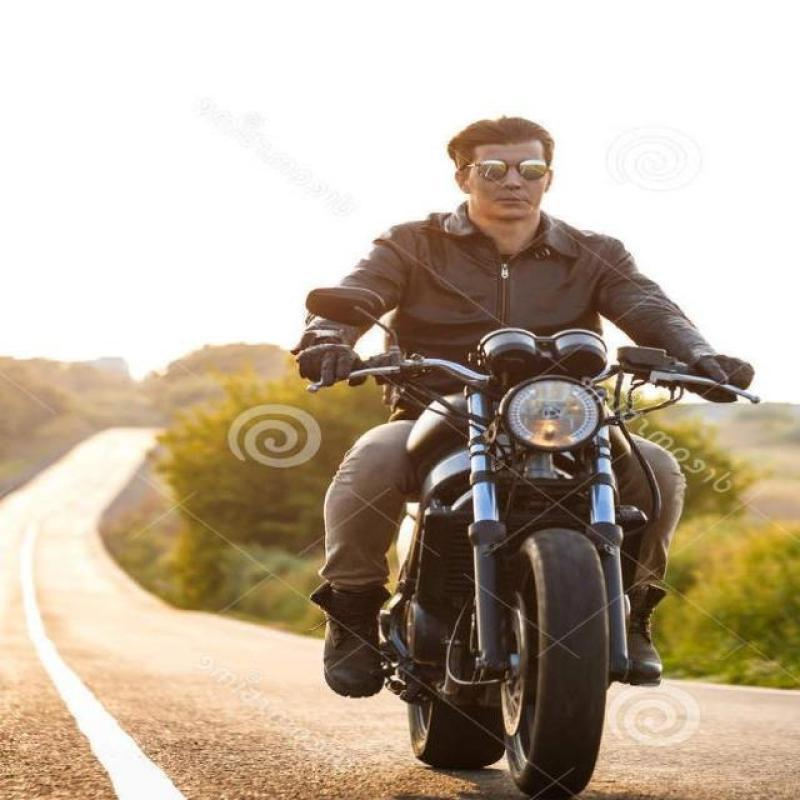nohelmet: (424, 107, 586, 223)
